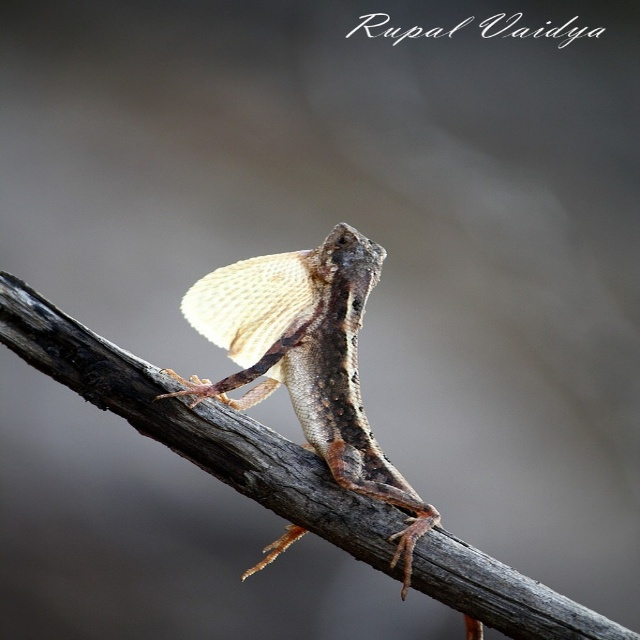Lizard: (162, 214, 458, 591)
